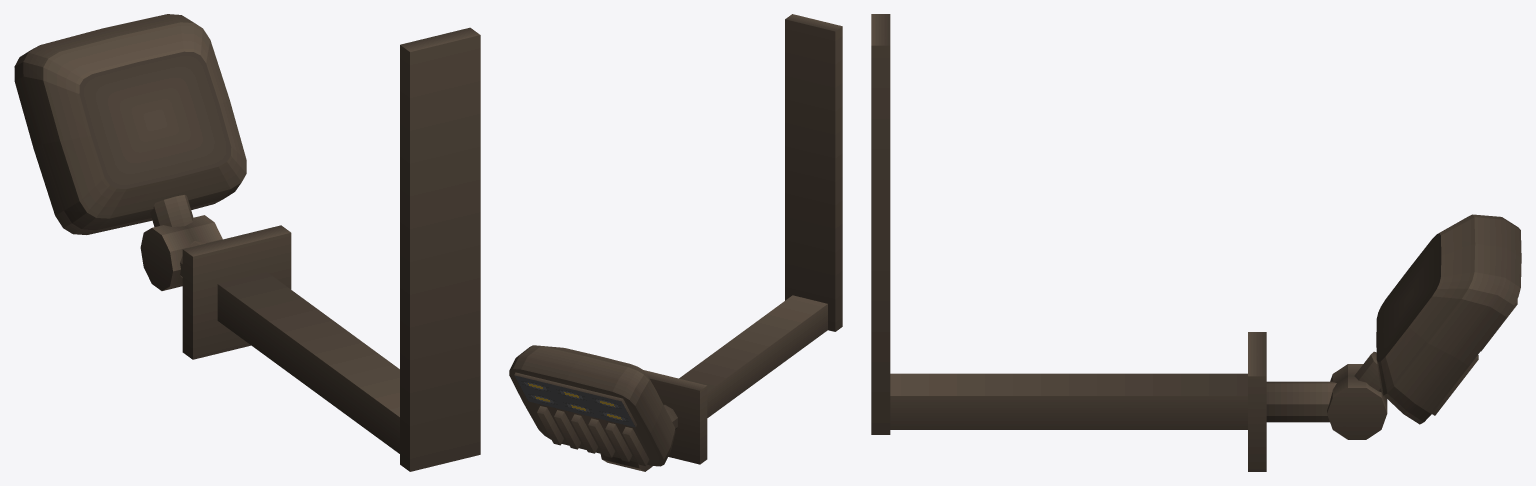
The model's file is floodlight_lithdsxf1kn_x.obj.
3 renders of one model, left to right at view 1: azimuth 30°, elevation 25°; view 2: azimuth 150°, elevation 25°; view 3: azimuth 270°, elevation 25°, orthographic. The views are drawn at different scales.
Visible parts, largest first — view 1: fixture; view 2: fixture; view 3: fixture.
Boxes of the visible parts, x1,y1,x2,y2 form: fixture: (14, 14, 480, 471); fixture: (509, 14, 842, 471); fixture: (871, 14, 1521, 471).
Bounding box in the file's own units: 0.317 × 0.7687 × 1.08.
